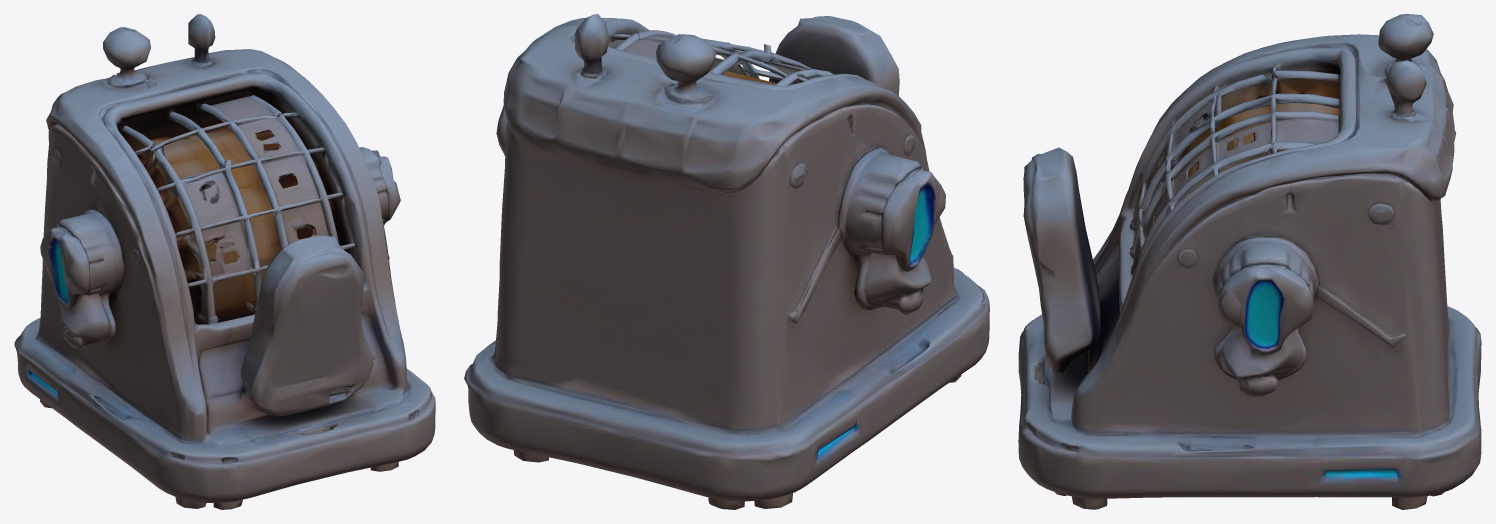
File: full_counter.glb
3 renders of one model, left to right at view 1: azimuth 30°, elevation 25°; view 2: azimuth 150°, elevation 25°; view 3: azimuth 270°, elevation 25°, orthographic. The views are drawn at different scales.
Visible parts, largest first — view 1: tripo_node_3ff86652-371e-44e2-aee7-448cb30c031c; view 2: tripo_node_3ff86652-371e-44e2-aee7-448cb30c031c; view 3: tripo_node_3ff86652-371e-44e2-aee7-448cb30c031c.
Boxes of the visible parts, left/top/right/bottom form: tripo_node_3ff86652-371e-44e2-aee7-448cb30c031c: left=14, top=14, right=435, bottom=509; tripo_node_3ff86652-371e-44e2-aee7-448cb30c031c: left=464, top=14, right=989, bottom=509; tripo_node_3ff86652-371e-44e2-aee7-448cb30c031c: left=1018, top=14, right=1481, bottom=509.
Bounding box in the file's own units: 0.9309 × 0.9584 × 0.9785.
1 material, 1 textured.
